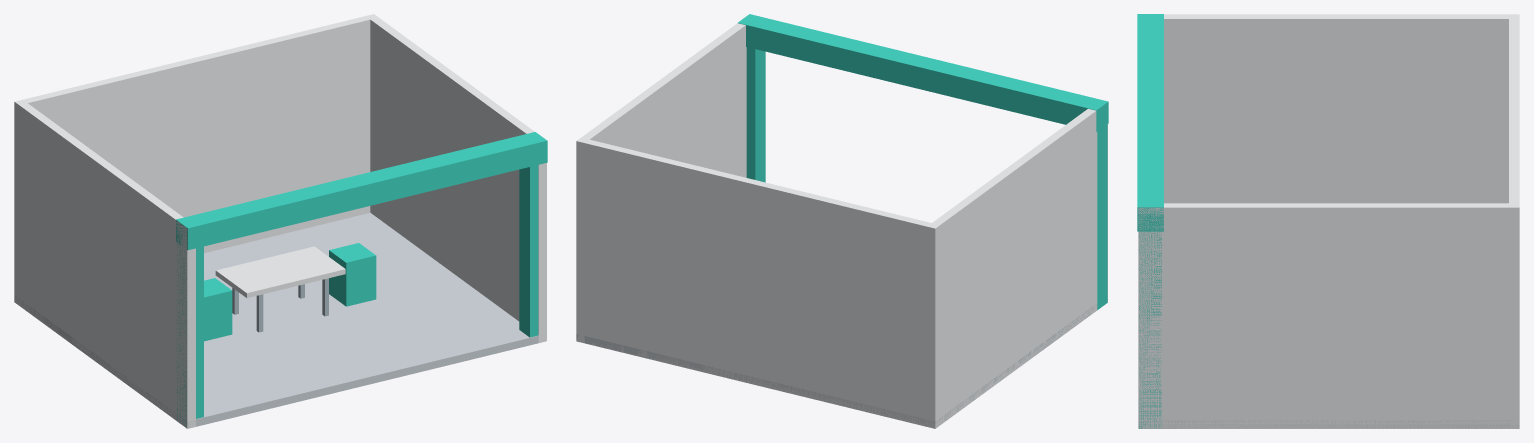
The picture shows the model from 3 angles, left to right: view 1: azimuth 30°, elevation 25°; view 2: azimuth 150°, elevation 25°; view 3: azimuth 270°, elevation 25°; orthographic projection. The views are drawn at different scales.
Parts seen in each view (by area): view 1: Exhibition Booth Concept; view 2: Exhibition Booth Concept; view 3: Exhibition Booth Concept.
Part boxes in pixels (bbox=[...]): Exhibition Booth Concept: bbox=[14, 14, 547, 428]; Exhibition Booth Concept: bbox=[576, 14, 1108, 428]; Exhibition Booth Concept: bbox=[1137, 14, 1519, 428].
Size of the model in its own units: 6 by 3.2 by 5.02.
